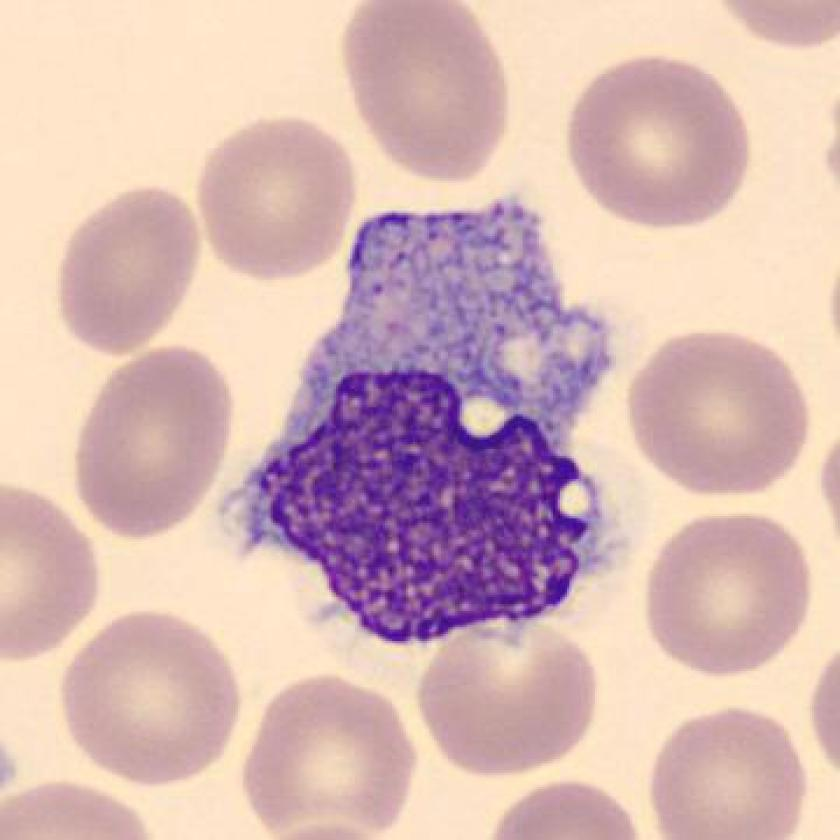monocyte: (192, 184, 659, 663)
